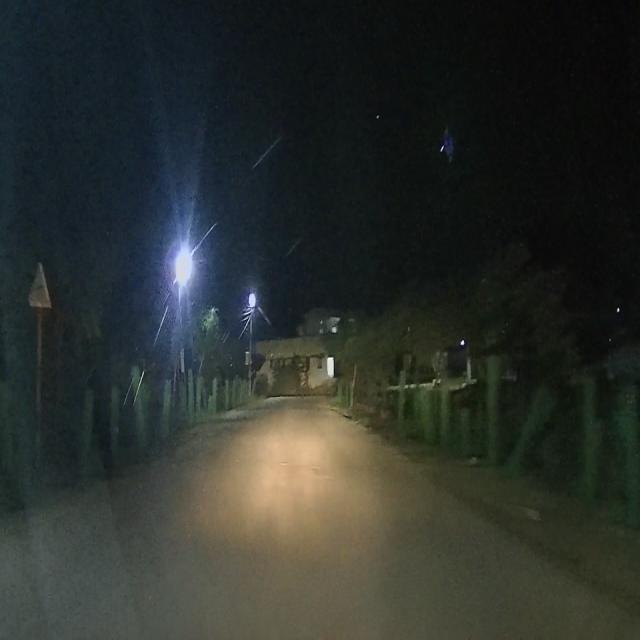right-hand-curve: (27, 255, 53, 306)
